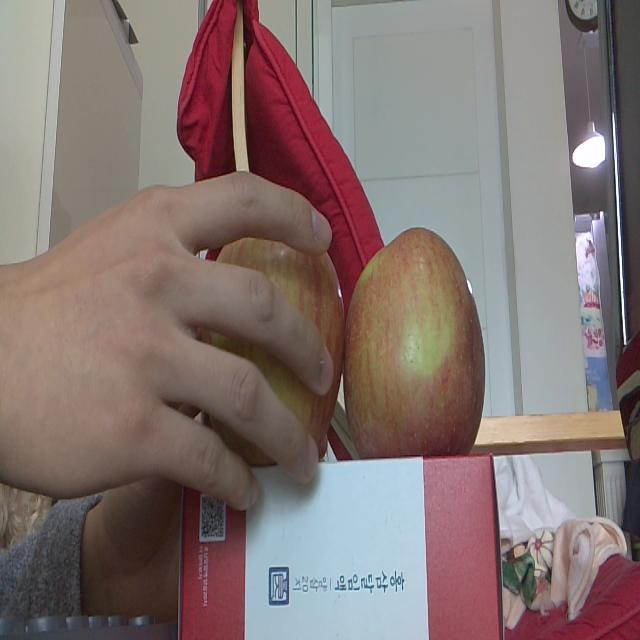apple: (205, 230, 342, 460), (347, 228, 485, 455)
